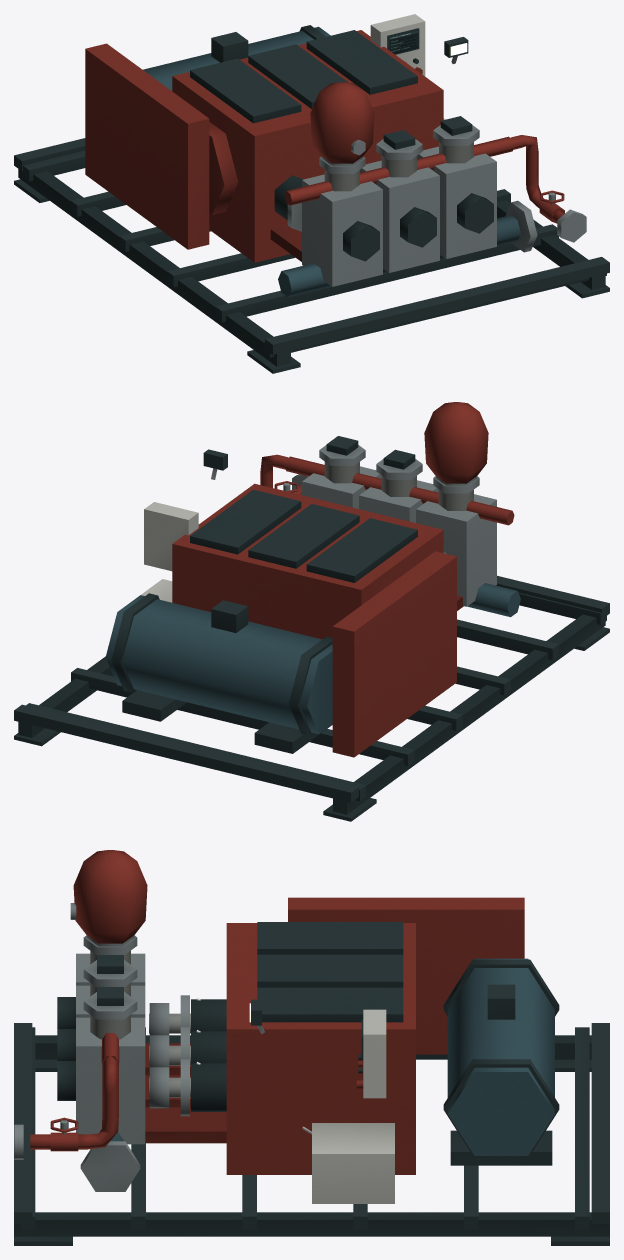
File: mud_pump_single_lodL.glb
The picture shows the model from 3 angles, top to bottom: view 1: azimuth 30°, elevation 25°; view 2: azimuth 150°, elevation 25°; view 3: azimuth 270°, elevation 25°; orthographic projection. The views are drawn at different scales.
Parts seen in each view (by area): view 1: skid_dark, drive_guard_oxide, power_end_oxide, fluid_end_steel, power_end_dark, fluid_end_dark, pulsation_dampener_oxide, discharge_manifold_oxide, drive_motor_blue, suction_manifold_blue, fluid_end_machined, control_panel_ivory (+6 smaller); view 2: skid_dark, drive_motor_blue, drive_guard_oxide, power_end_oxide, power_end_dark, fluid_end_steel, drive_motor_dark, pulsation_dampener_oxide, discharge_manifold_oxide, control_panel_ivory, fluid_end_machined, suction_manifold_blue (+1 smaller); view 3: skid_dark, power_end_oxide, drive_motor_blue, power_end_dark, drive_guard_oxide, fluid_end_steel, liner_cooling_and_lubrication_ivory, pulsation_dampener_oxide, drive_motor_dark, liners_and_pony_rods_dark, liners_and_pony_rods_steel, liners_and_pony_rods_oxide (+6 smaller).
Boxes of the visible parts, x1=… form: skid_dark: x1=14, y1=138, x2=609, y2=373; drive_guard_oxide: x1=85, y1=43, x2=209, y2=249; power_end_oxide: x1=172, y1=30, x2=443, y2=262; fluid_end_steel: x1=302, y1=125, x2=496, y2=286; power_end_dark: x1=190, y1=30, x2=417, y2=123; fluid_end_dark: x1=343, y1=116, x2=493, y2=261; pulsation_dampener_oxide: x1=310, y1=82, x2=374, y2=163; discharge_manifold_oxide: x1=284, y1=135, x2=564, y2=223; drive_motor_blue: x1=143, y1=26, x2=330, y2=90; suction_manifold_blue: x1=278, y1=215, x2=520, y2=297; fluid_end_machined: x1=324, y1=142, x2=473, y2=191; control_panel_ivory: x1=370, y1=14, x2=425, y2=76; skid_dark: x1=14, y1=575, x2=609, y2=821; drive_motor_blue: x1=105, y1=595, x2=332, y2=734; drive_guard_oxide: x1=332, y1=551, x2=456, y2=757; power_end_oxide: x1=172, y1=483, x2=443, y2=639; power_end_dark: x1=190, y1=489, x2=417, y2=582; fluid_end_steel: x1=302, y1=445, x2=496, y2=606; drive_motor_dark: x1=111, y1=593, x2=332, y2=753; pulsation_dampener_oxide: x1=424, y1=402, x2=488, y2=483; discharge_manifold_oxide: x1=260, y1=454, x2=514, y2=525; control_panel_ivory: x1=144, y1=502, x2=198, y2=571; fluid_end_machined: x1=324, y1=462, x2=473, y2=510; suction_manifold_blue: x1=467, y1=583, x2=520, y2=617; skid_dark: x1=14, y1=1023, x2=609, y2=1245; power_end_oxide: x1=226, y1=923, x2=415, y2=1174; drive_motor_blue: x1=447, y1=958, x2=554, y2=1155; power_end_dark: x1=257, y1=922, x2=403, y2=1022; drive_guard_oxide: x1=288, y1=897, x2=524, y2=1054; fluid_end_steel: x1=76, y1=935, x2=145, y2=1144; liner_cooling_and_lubrication_ivory: x1=312, y1=1123, x2=394, y2=1203; pulsation_dampener_oxide: x1=73, y1=850, x2=147, y2=943; drive_motor_dark: x1=443, y1=959, x2=559, y2=1165; liners_and_pony_rods_dark: x1=191, y1=999, x2=226, y2=1111; liners_and_pony_rods_steel: x1=149, y1=995, x2=189, y2=1116; liners_and_pony_rods_oxide: x1=145, y1=1043, x2=226, y2=1143.
Bounding box in the file's own units: 4.85 × 3.18 × 6.45.
9 materials, 9 textured.
